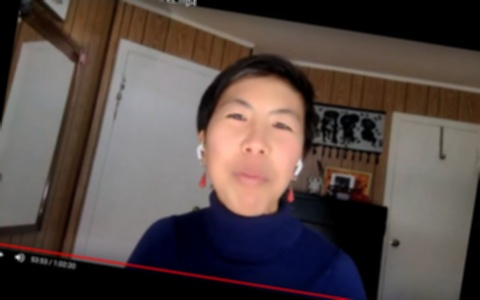earphone: (192, 129, 212, 168), (291, 152, 306, 181)
